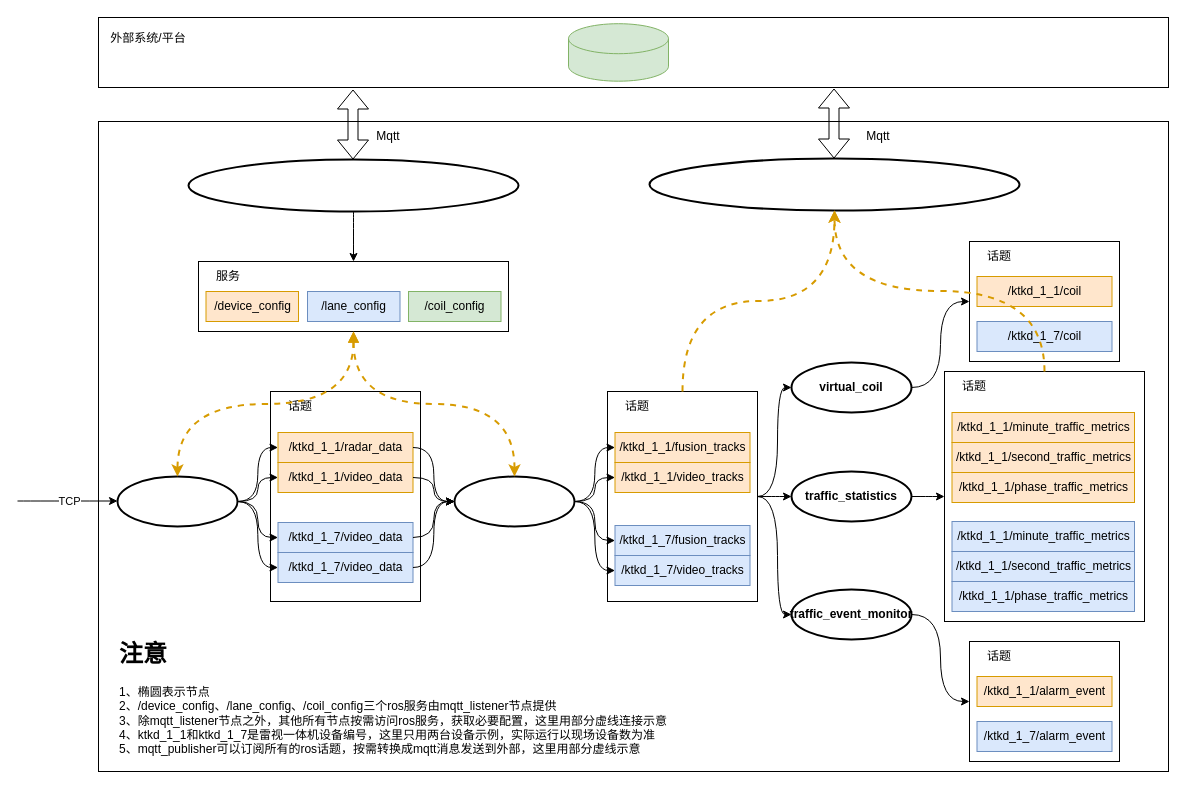
The diagram is 1186 pixels wide and 789 high, and some of its shapes have lost their labels. The centre of each missing label's shape, as x and y in pixels:
"MQTT Broker" goes at point (618, 52).
"mqtt_listener" goes at point (353, 185).
"mqtt_publisher" goes at point (834, 184).
"radar_video_fusion" goes at point (514, 501).
"tcp_comm" goes at point (177, 501).
